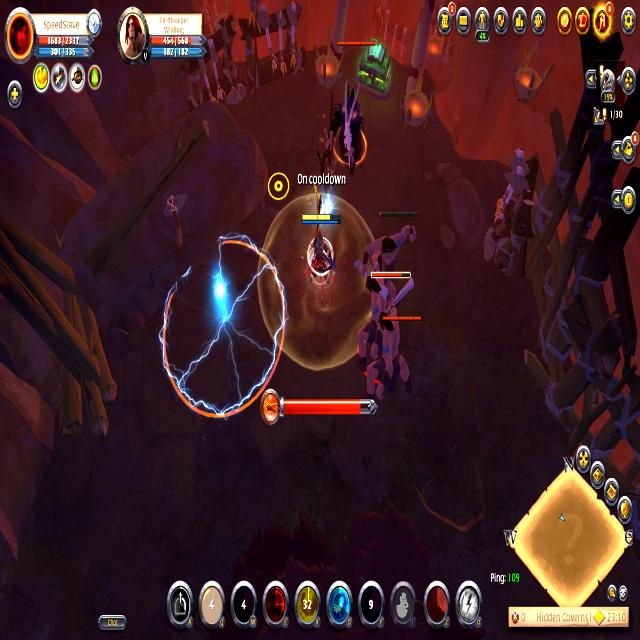ore: (354, 201, 418, 324), (329, 33, 378, 171), (352, 265, 415, 371), (365, 309, 426, 418)
red: (290, 206, 348, 296)
silver: (159, 233, 288, 418), (230, 411, 234, 415)
